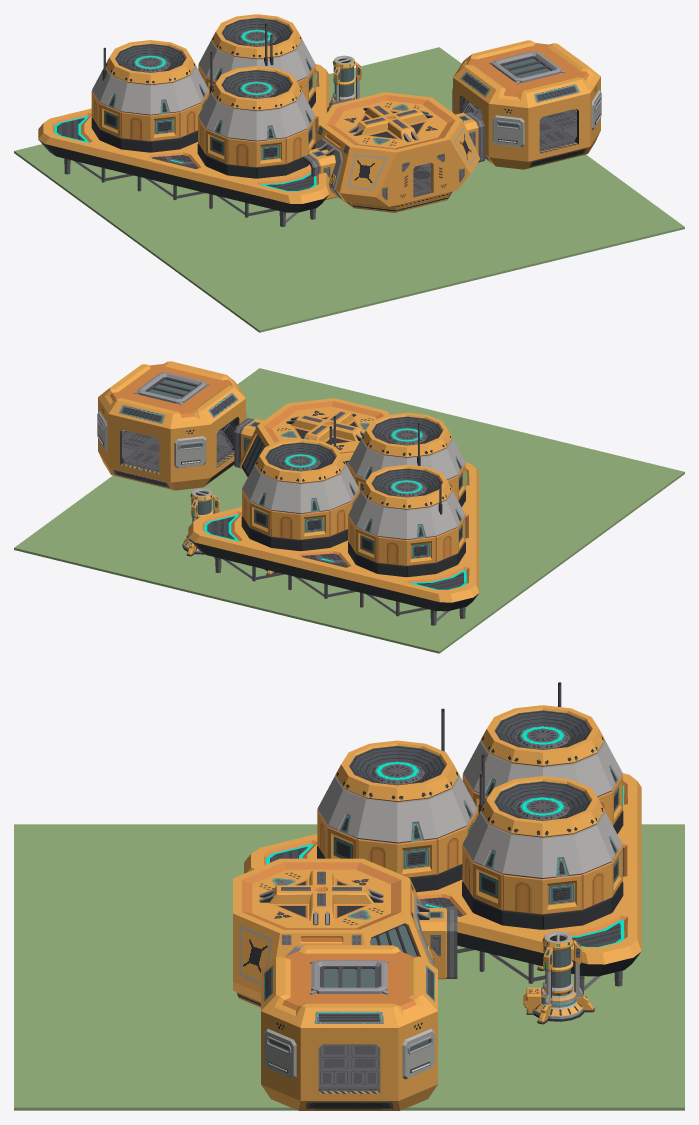
File: synthetic-protein-lab.glb
3 renders of one model, top to bottom at view 1: azimuth 30°, elevation 25°; view 2: azimuth 150°, elevation 25°; view 3: azimuth 270°, elevation 25°, orthographic. The views are drawn at different scales.
Visible parts, largest first — view 1: Ground, Silo, Lab_Main, Hub, Containment_2; view 2: Ground, Silo, Hub, Lab_Main, Containment_2; view 3: Ground, Silo, Hub, Lab_Main, Containment_2.
Part boxes in pixels (box(x1,y1,x2,y2)): Ground: box(14, 47, 684, 332); Silo: box(38, 14, 329, 226); Lab_Main: box(303, 92, 485, 212); Hub: box(452, 40, 601, 169); Containment_2: box(329, 55, 361, 105); Ground: box(14, 368, 684, 653); Silo: box(188, 412, 479, 625); Hub: box(97, 361, 246, 490); Lab_Main: box(234, 398, 388, 476); Containment_2: box(182, 488, 219, 556); Ground: box(14, 824, 684, 1110); Silo: box(244, 682, 641, 994); Hub: box(261, 945, 437, 1110); Lab_Main: box(233, 858, 457, 1007); Containment_2: box(523, 931, 594, 1024).
Bounding box in the file's own units: 33.95 × 10.09 × 32.
2 materials, 1 textured.
